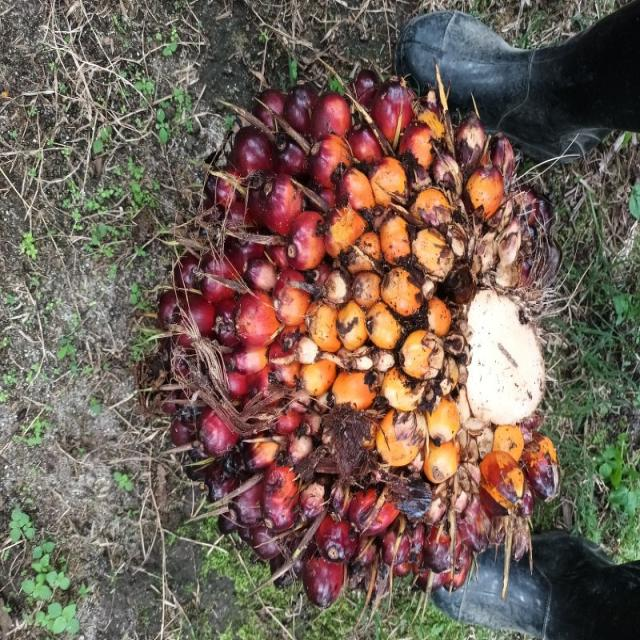fraksi 1: (41, 106, 475, 640)
